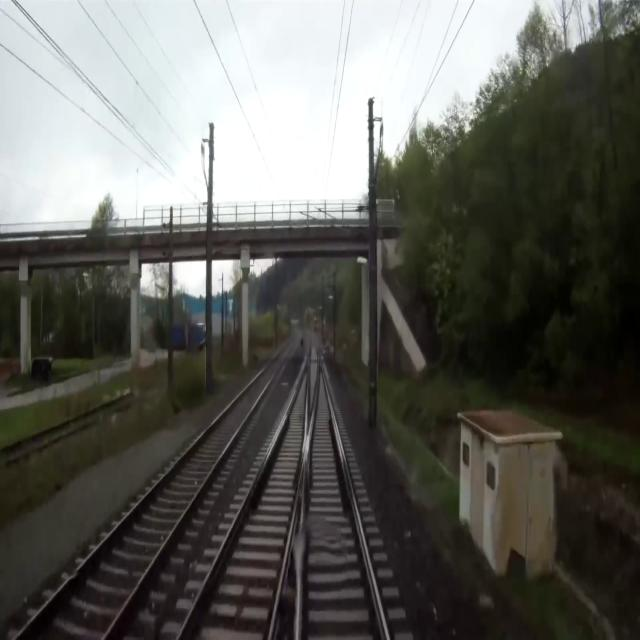rail-track: (17, 340, 292, 639), (181, 367, 306, 639), (301, 367, 384, 639), (273, 491, 301, 639)
